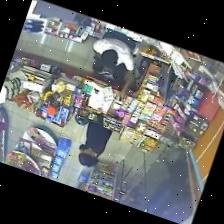person: (93, 31, 135, 97), (79, 109, 112, 166)
